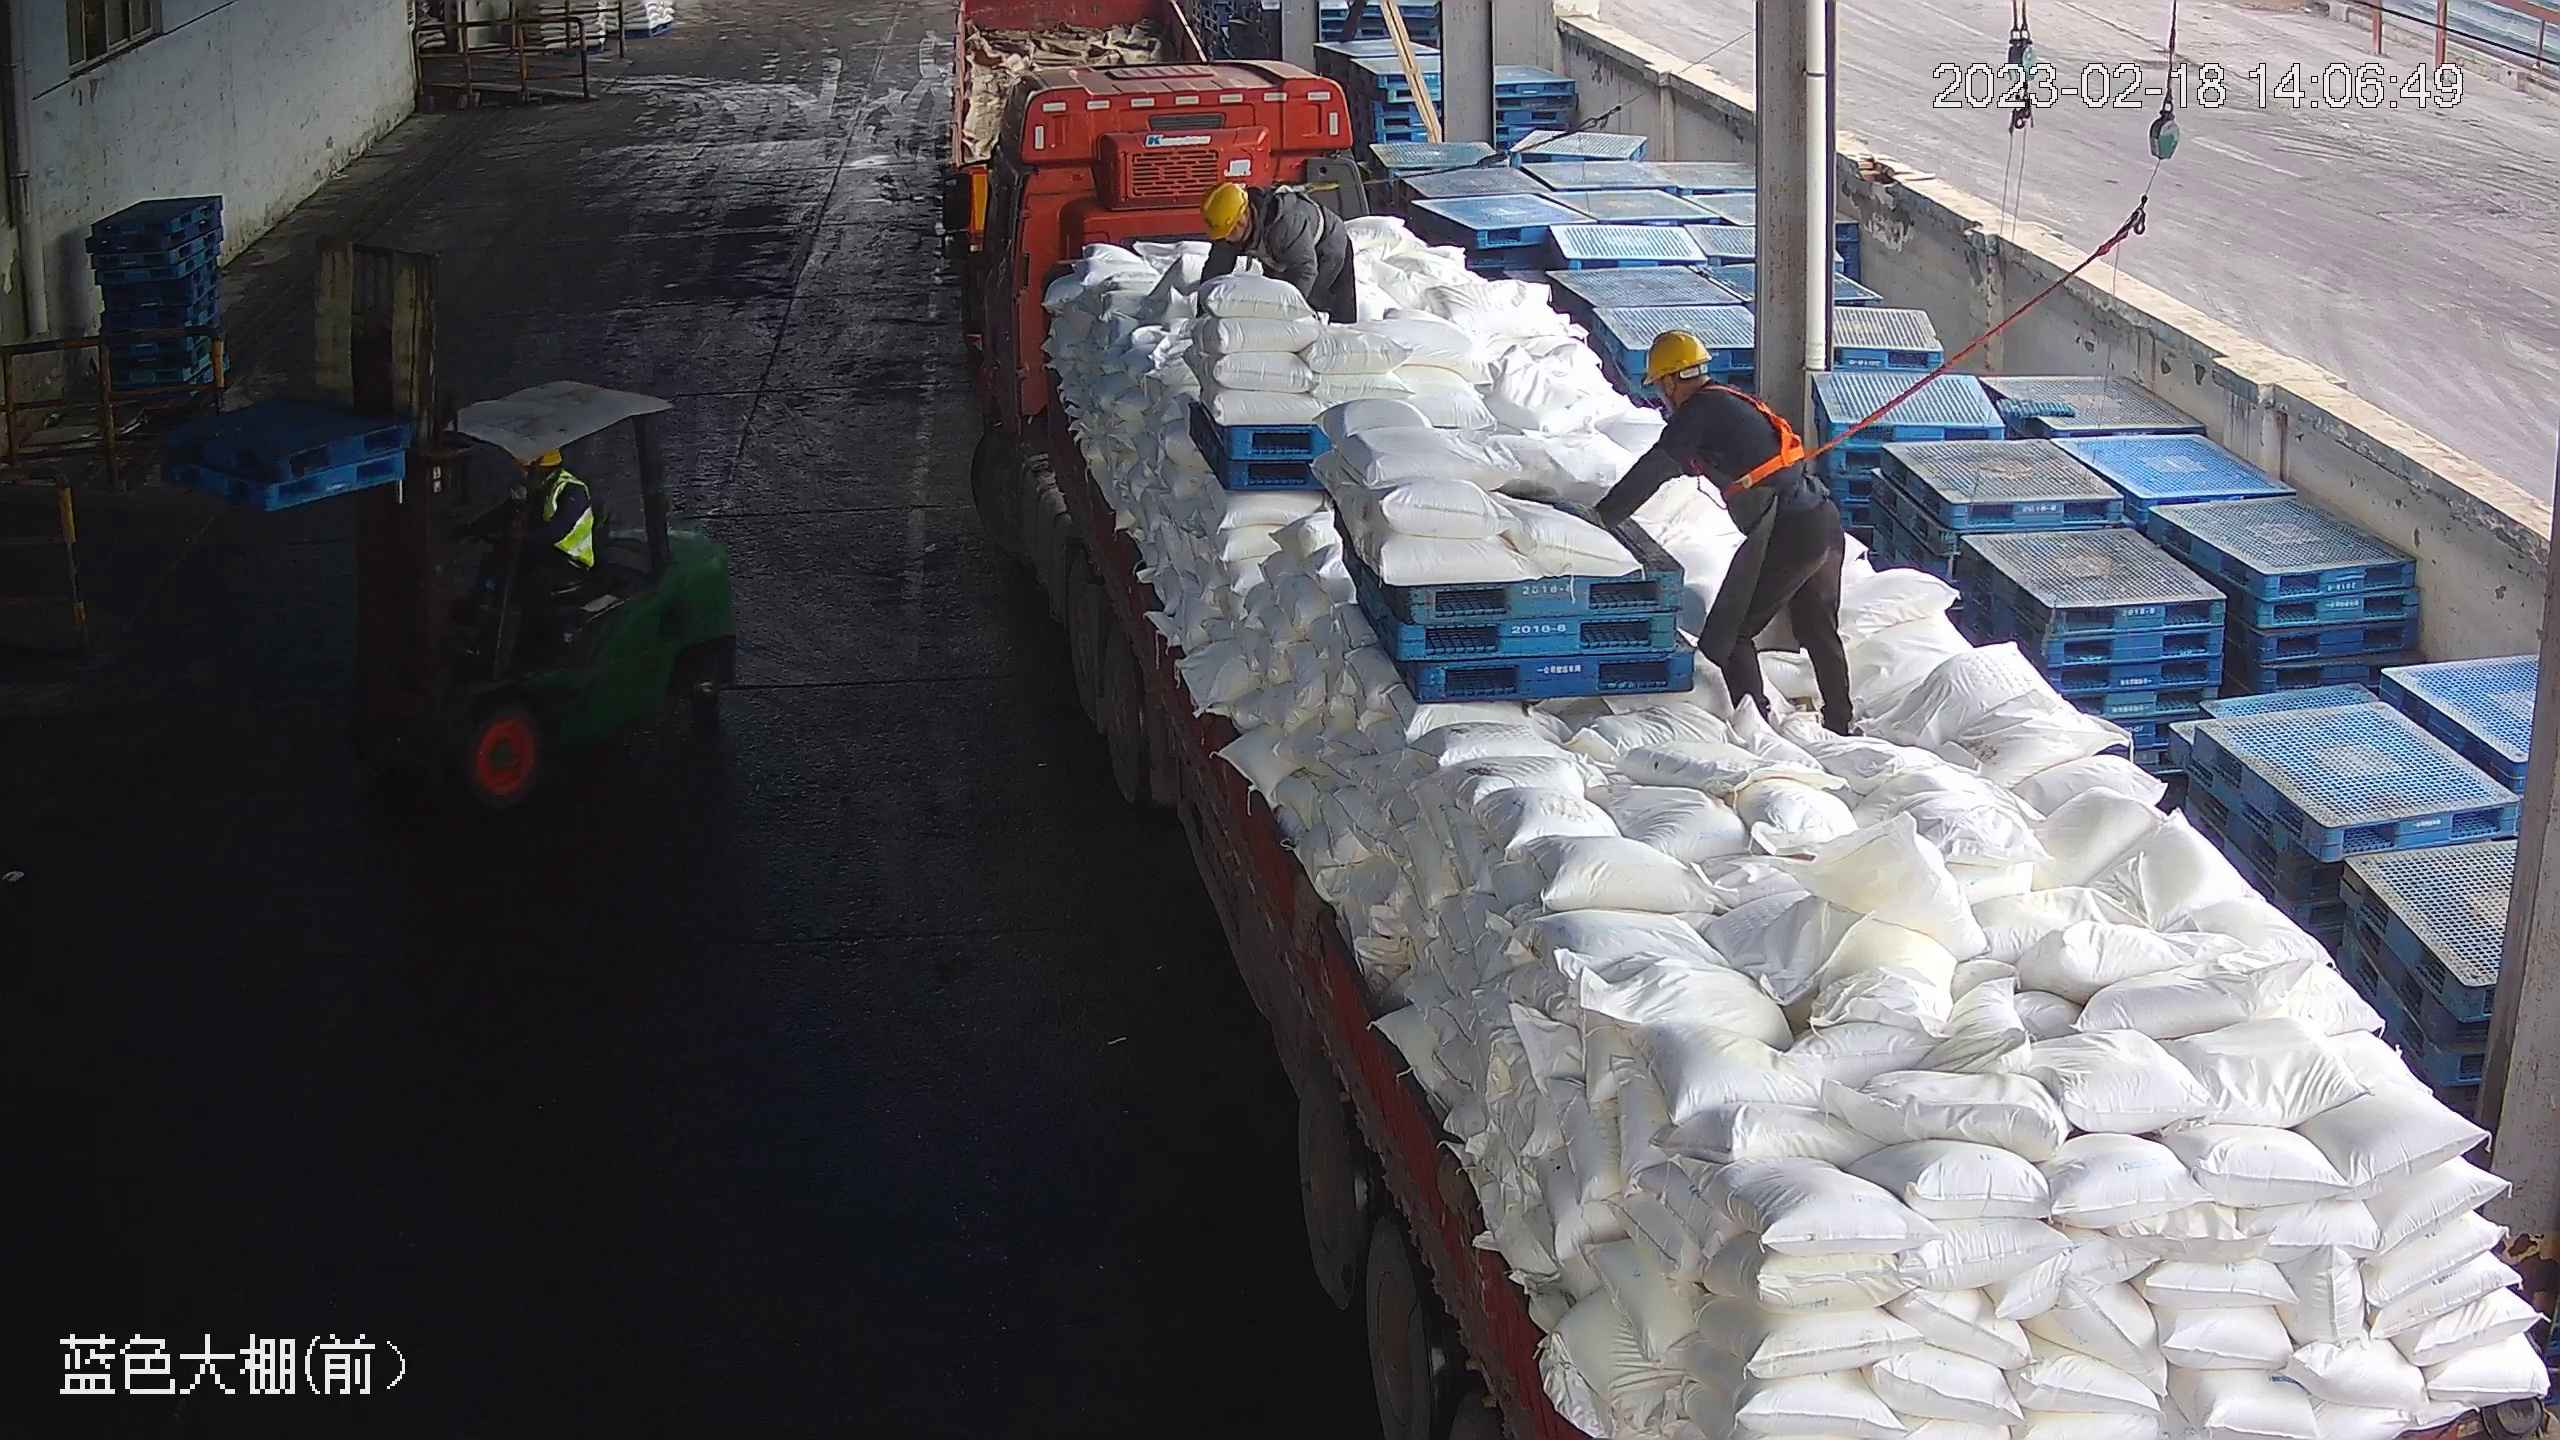belt: (1706, 372, 1827, 496), (1266, 167, 1332, 240)
head: (1622, 327, 1773, 483), (1196, 179, 1298, 271)
people: (1557, 327, 1857, 739), (1196, 178, 1362, 328), (467, 452, 595, 603)
truck: (939, 52, 2560, 1440)
